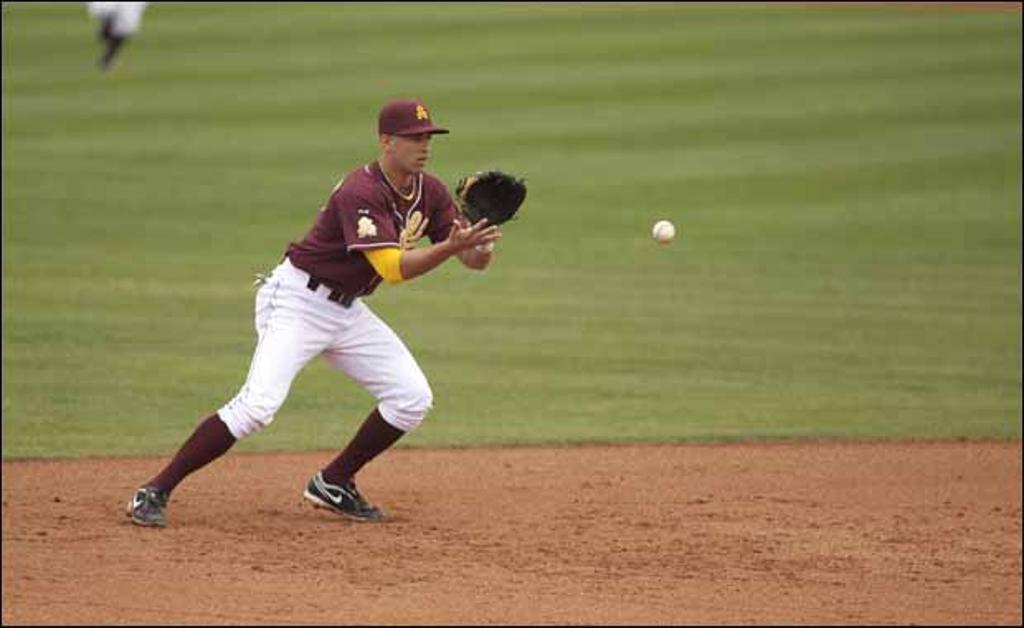face: (394, 127, 429, 173)
